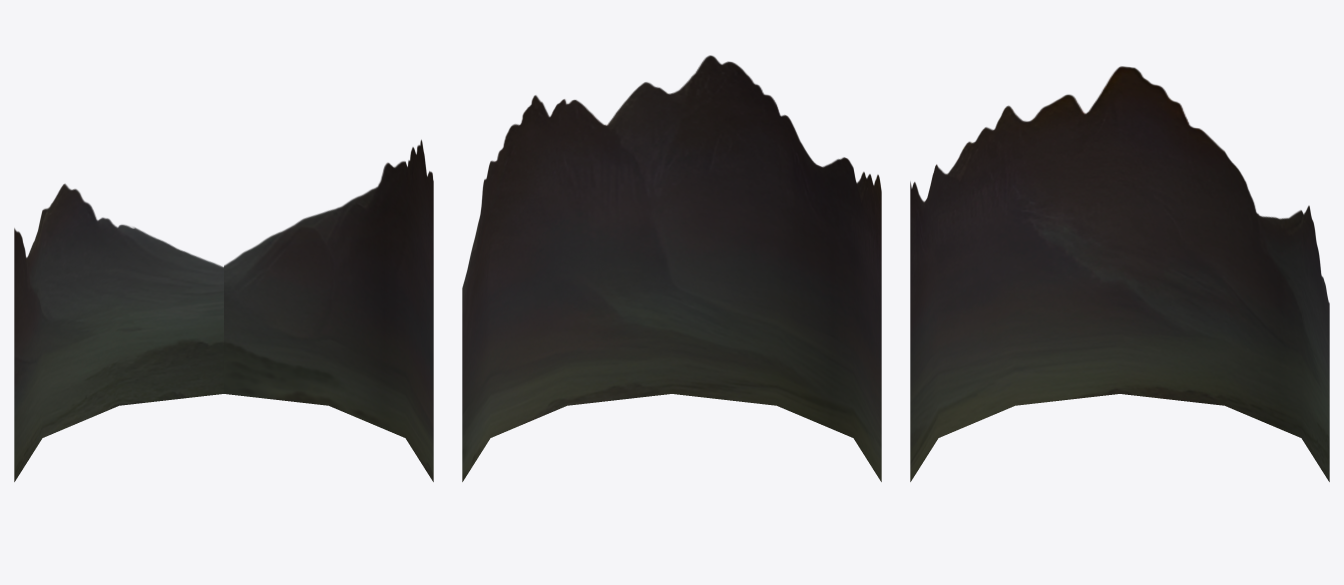
Rendered from rabbitHoleBG.glb.
3 views of the same model, side by side, from view 1: azimuth 30°, elevation 25°; view 2: azimuth 150°, elevation 25°; view 3: azimuth 270°, elevation 25° (orthographic).
Visible parts, largest first — view 1: rabbitHoleBG; view 2: rabbitHoleBG; view 3: rabbitHoleBG.
Boxes of the visible parts, left/top/right/bottom form: rabbitHoleBG: left=14, top=139, right=433, bottom=481; rabbitHoleBG: left=462, top=55, right=881, bottom=481; rabbitHoleBG: left=910, top=66, right=1329, bottom=481.
Size of what is drawn, in the model's own units: 17.98 by 17.99 by 17.98.
Materials: 1 (1 with a texture image).
